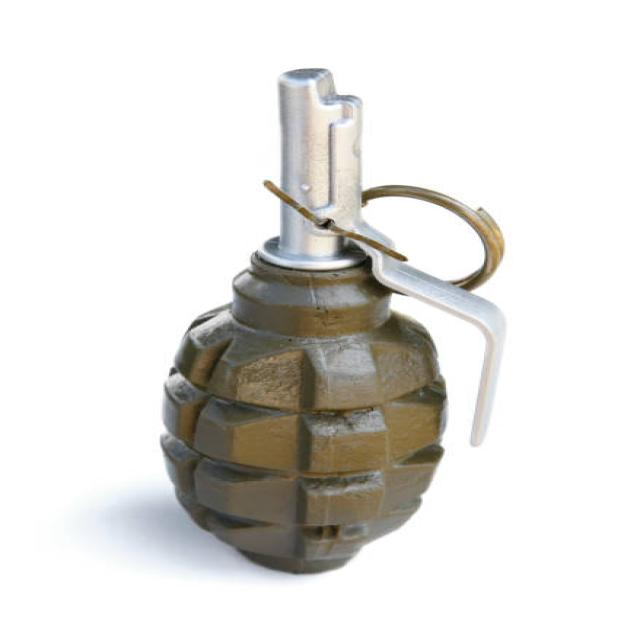grenade: (156, 68, 523, 587)
